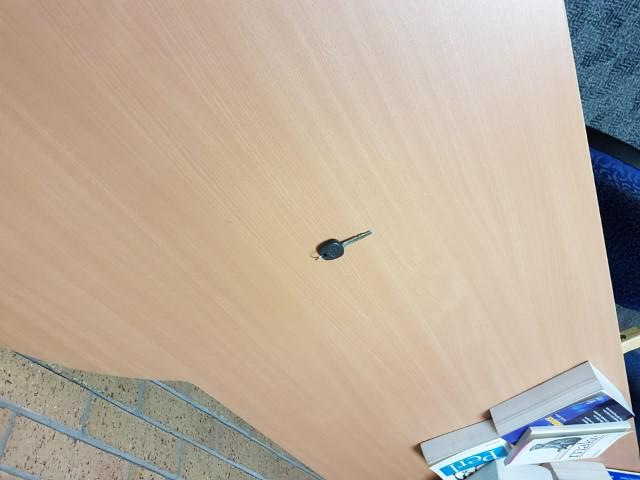key: (315, 227, 374, 264)
